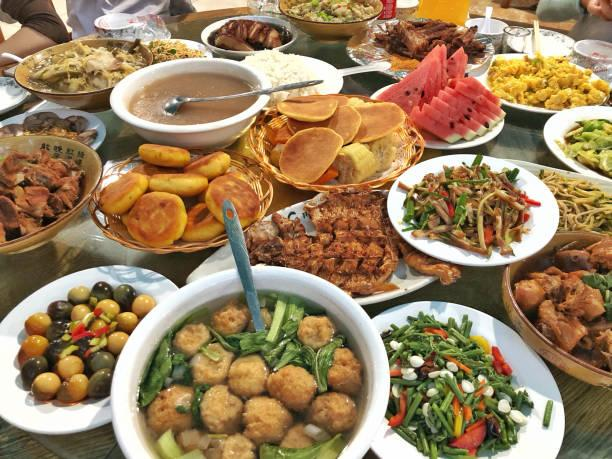Braised Crucian Carp: (108, 265, 390, 459), (360, 306, 563, 459), (0, 266, 174, 435), (188, 197, 435, 308), (387, 152, 559, 265), (246, 95, 416, 194), (108, 58, 267, 149), (349, 16, 494, 78), (200, 16, 298, 59)
